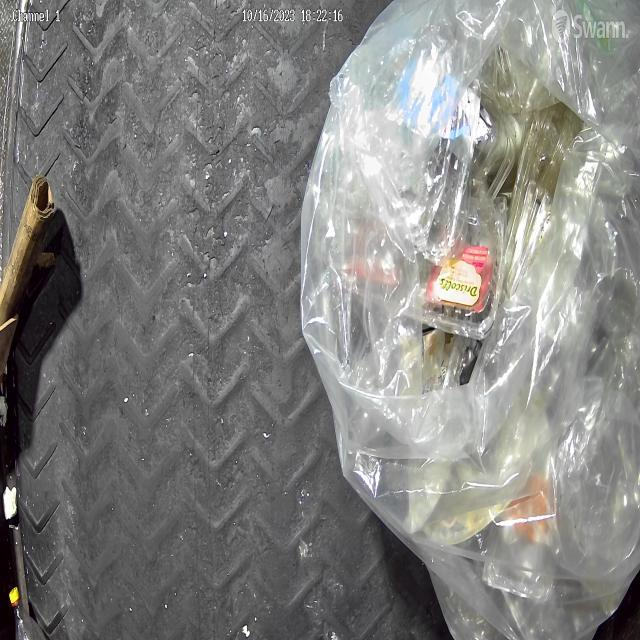plastic_bottle: (10, 585, 48, 640)
